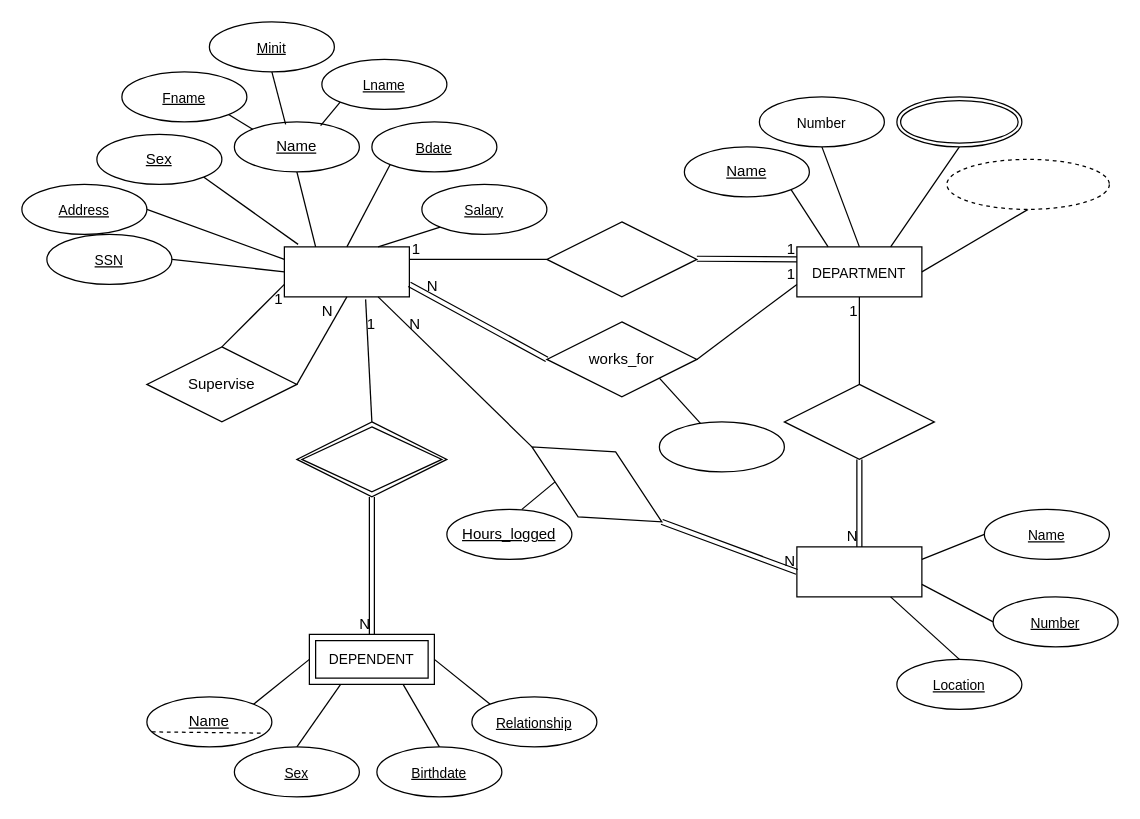
Image size: 1140x819. Some labels were removed from this diagram. The centre of each missing label's shape, as x and y in pixels:
Controls: (858,421)
dependent_of: (371,459)
EMPLOYEE: (346,271)
Locations: (959,121)
manage: (621,259)
NumberOfEmployees: (1027,183)
PROJECT: (859,571)
start_date: (721,446)
Works_on: (596,483)
